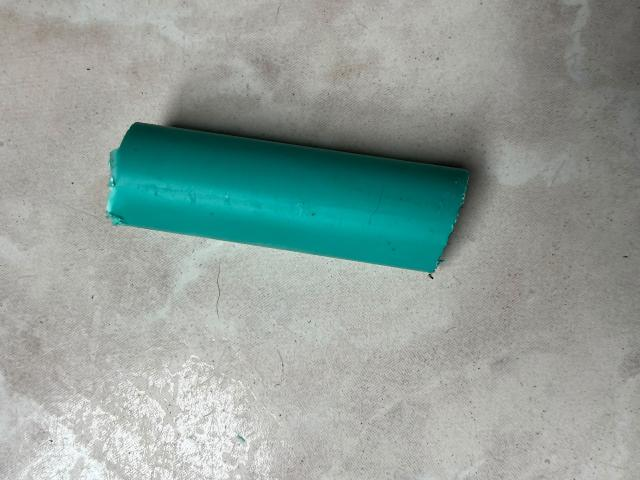PVC: (100, 107, 483, 288)
